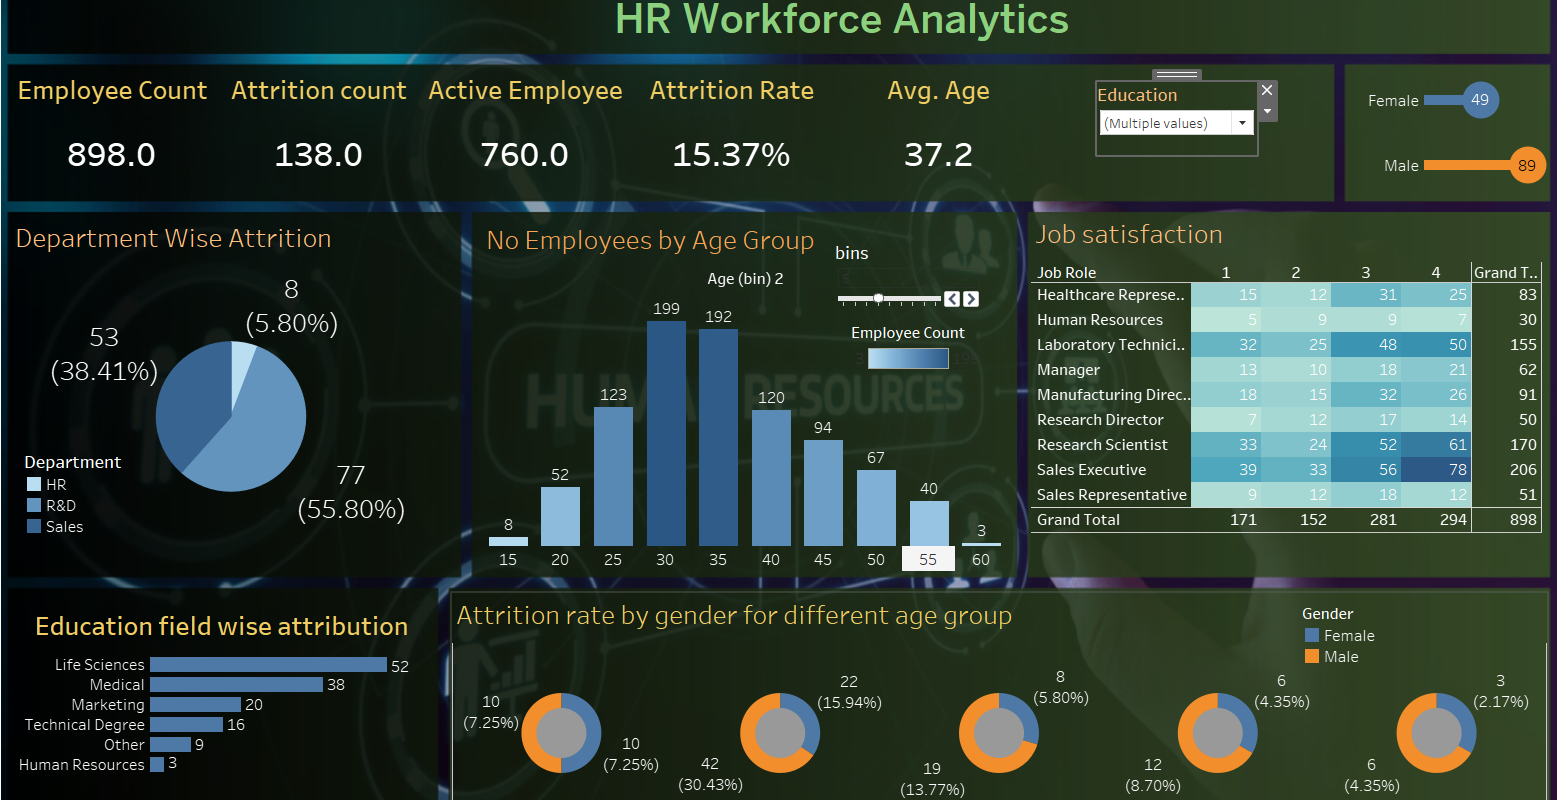

Layout of this report page (visuals, bound fields, positions):
{"tool":"tableau","page":{"name":"Hr analytics dashboard","canvas":[1580,900],"ordinal":0},"visuals":[{"type":"image","param":"Image/HR background.pptx.png","box":[8,8,1564,884]},{"type":"text","box":[622,20,776,63]},{"type":"worksheet","title":"KPI","mark":"Automatic","box":[20,99,1033,131]},{"type":"worksheet","title":"Attrition by gender","mark":"Automatic","rows":["Gender"],"cols":["Calculation_1459447756745957376","Calculation_1459447756745957376"],"box":[1355,99,209,131]},{"type":"filter","title":"Departmentwise Attrition","param":"[federated.120sfun1k1yrnr13otrgk1mxrs9p].[none:Education:nk]","box":[1108,114,160,73]},{"type":"worksheet","title":"Job satisfaction","mark":"Square","rows":["Job Role"],"cols":["Job Satisfaction"],"box":[1042,244,526,361]},{"type":"worksheet","title":"Departmentwise Attrition","mark":"Pie","box":[22,248,440,351]},{"type":"worksheet","title":"No Employees by Age Group ","mark":"Automatic","rows":["Employee Count"],"cols":["Age (bin) 2"],"box":[493,250,526,353]},{"type":"parameter","param":"[Parameters].[Parameter 1]","box":[846,272,147,77]},{"type":"legend","title":"No Employees by Age Group ","param":"[federated.120sfun1k1yrnr13otrgk1mxrs9p].[sum:Employee Count:qk]","box":[862,354,133,63]},{"type":"legend","title":"Departmentwise Attrition","param":"[federated.120sfun1k1yrnr13otrgk1mxrs9p].[none:Department:nk]","box":[35,481,140,120]},{"type":"worksheet","title":"Attrition rate by gender for different age group","mark":"Pie","rows":["Calculation_717761193456500737","Calculation_717761193456500737"],"cols":["CF_age band"],"box":[463,625,1095,256]},{"type":"legend","title":"Attrition rate by gender for different age group","param":"[federated.120sfun1k1yrnr13otrgk1mxrs9p].[none:Gender:nk]","box":[1313,635,116,70]},{"type":"worksheet","title":"Education field wise attribution","mark":"Automatic","rows":["Education Field"],"cols":["Calculation_1459447756745957376"],"box":[21,636,423,228]}]}

Visuals, with their boxes on the page's 1580x900 design canvas (x1, y1, x2, y2). These are canvas units, not pixel positions in the 1558x800 screenshot, which may show the page scaled, cropped or inside an application window:
image: Rect(8, 8, 1572, 892)
text: Rect(622, 20, 1398, 83)
"KPI" worksheet: Rect(20, 99, 1053, 230)
"Attrition by gender" worksheet: Rect(1355, 99, 1564, 230)
"Departmentwise Attrition" filter: Rect(1108, 114, 1268, 187)
"Job satisfaction" worksheet (Square marks): Rect(1042, 244, 1568, 605)
"Departmentwise Attrition" worksheet (Pie marks): Rect(22, 248, 462, 599)
"No Employees by Age Group " worksheet: Rect(493, 250, 1019, 603)
parameter: Rect(846, 272, 993, 349)
"No Employees by Age Group " legend: Rect(862, 354, 995, 417)
"Departmentwise Attrition" legend: Rect(35, 481, 175, 601)
"Attrition rate by gender for different age group" worksheet (Pie marks): Rect(463, 625, 1558, 881)
"Attrition rate by gender for different age group" legend: Rect(1313, 635, 1429, 705)
"Education field wise attribution" worksheet: Rect(21, 636, 444, 864)
